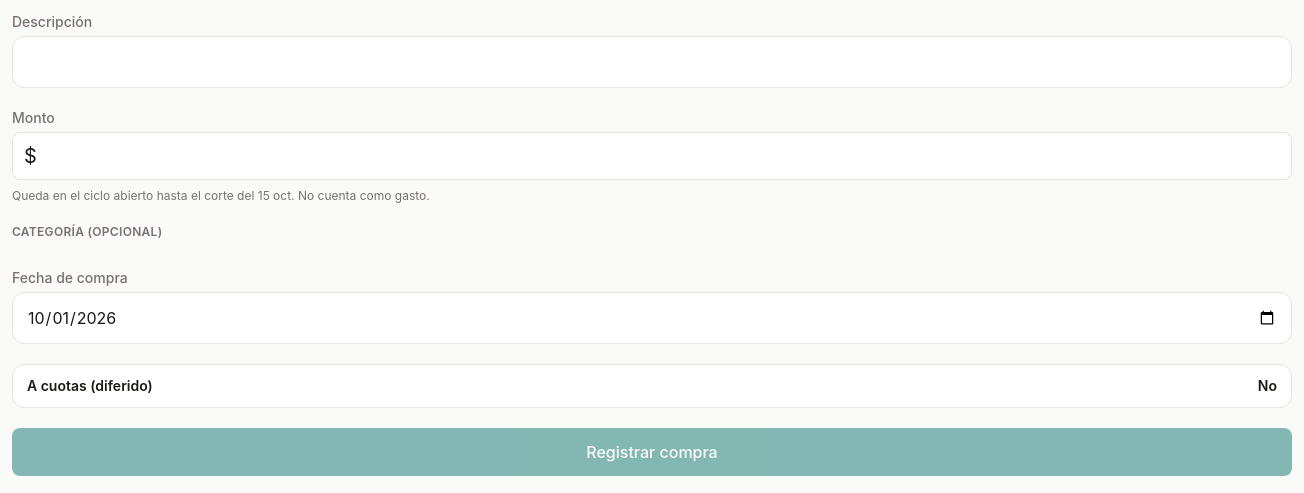
Scenario: PurchaseForm › does not crash or enable submit when the purchase date is cleared
This screenshot has width=1304, height=493.
Type "Mercado" into the field labelled "Descripción" at {"x": 652, "y": 62}, box [12,36,1292,88]
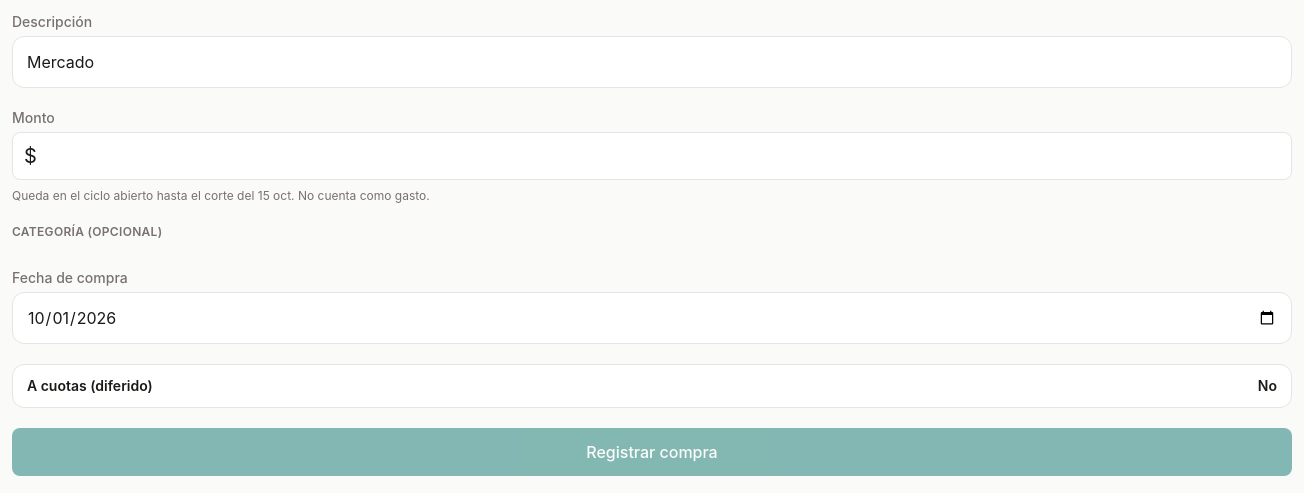
Type "1.000" into the field labelled "Monto" at {"x": 652, "y": 156}, box [12,132,1292,180]
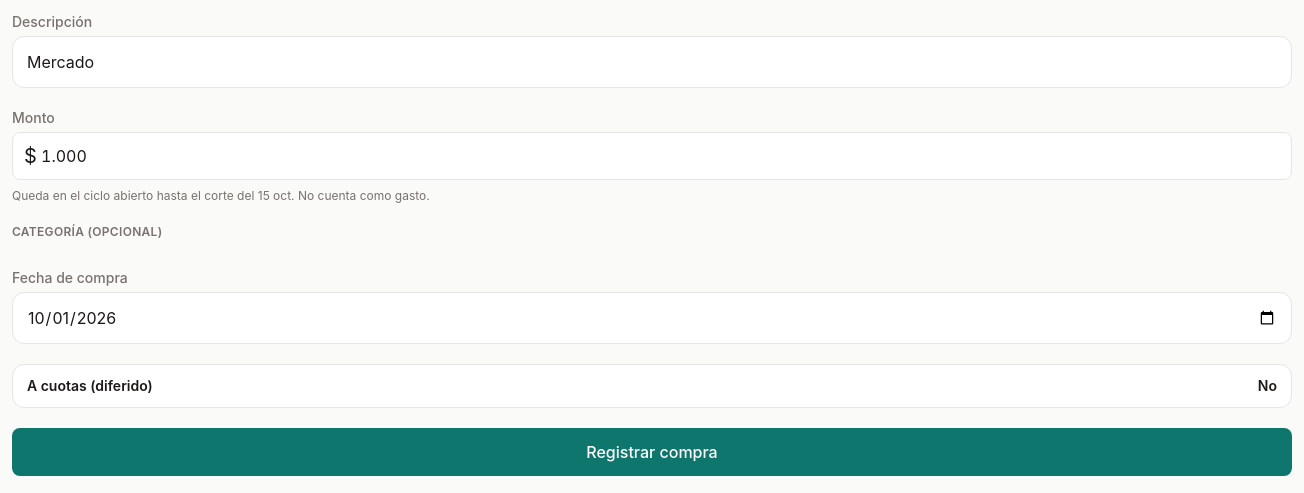
Clear the date field labelled "Fecha de compra" at {"x": 652, "y": 318}, box [12,292,1292,344]
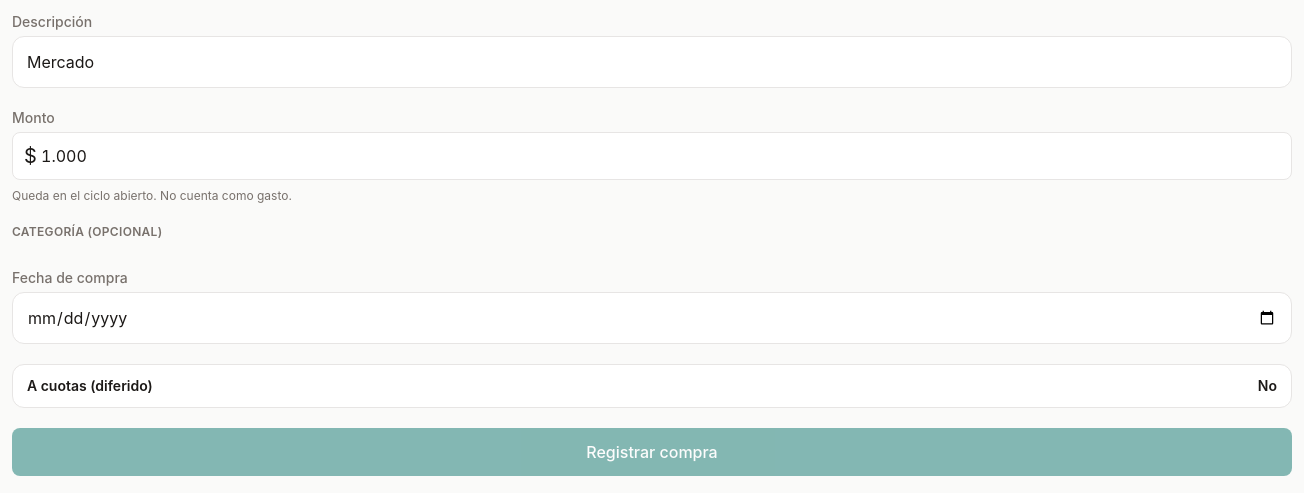
expect the button "Registrar compra" is disabled: met, box [12,428,1292,476]
